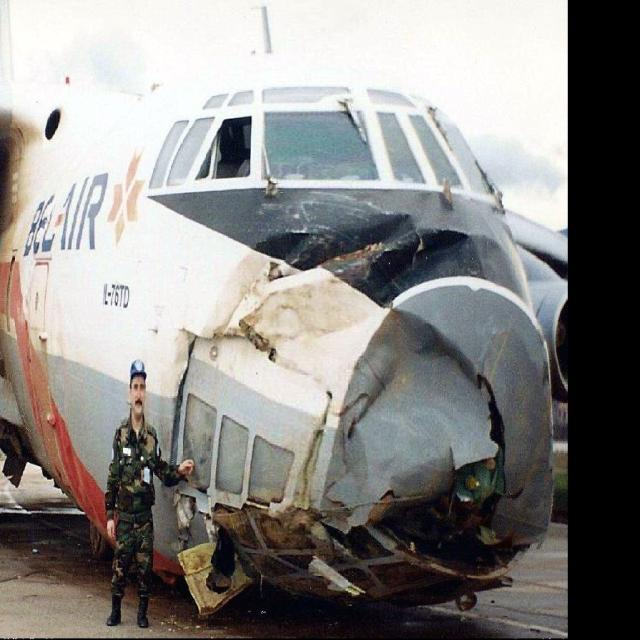dent: (303, 229, 453, 288)
